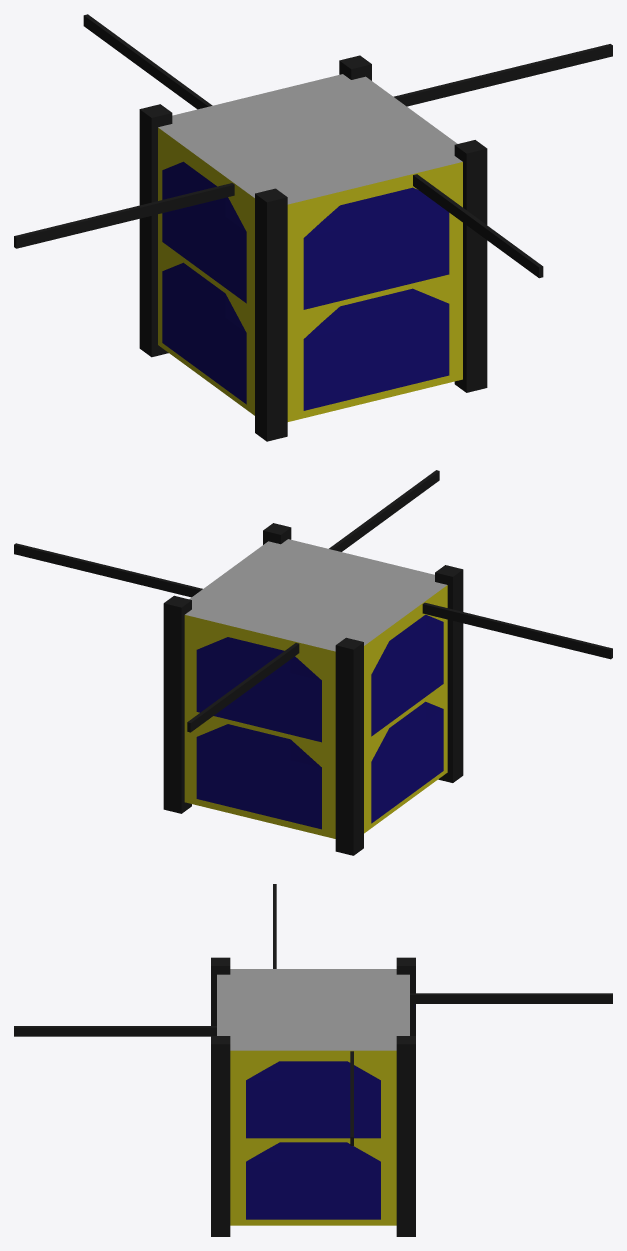
3 renders of one model, top to bottom at view 1: azimuth 30°, elevation 25°; view 2: azimuth 150°, elevation 25°; view 3: azimuth 270°, elevation 25°, orthographic. The views are drawn at different scales.
Visible parts, largest first — view 1: CubeSatWAnten.001_Cube.014, SolarPanel.006_Plane.010, SolarPanel.005_Plane.011, Leg.003_Cube.011, SolarPanel.007_Plane.009, SolarPanel.016_Plane.008, Leg.001_Cube.013, Leg.008_Cube.010, Antenna.007_Cube.015, Antenna.008_Cube.015, Antenna.003_Cube.017, Antenna.005_Cube.015 (+1 smaller); view 2: CubeSatWAnten.001_Cube.014, SolarPanel.003_Plane.013, SolarPanel.004_Plane.012, Leg.008_Cube.010, SolarPanel.016_Plane.008, SolarPanel.007_Plane.009, Leg.002_Cube.012, Leg.003_Cube.011, Antenna.007_Cube.015, Antenna.008_Cube.015, Antenna.005_Cube.015, Antenna.003_Cube.017; view 3: CubeSatWAnten.001_Cube.014, SolarPanel.002_Plane.014, SolarPanel.001_Plane.015, Leg.001_Cube.013, Leg.002_Cube.012, Antenna.005_Cube.015, Antenna.003_Cube.017, Leg.003_Cube.011, Leg.008_Cube.010.
Part boxes in pixels (x1,y1,x2,y2): CubeSatWAnten.001_Cube.014: (158,74,462,421); SolarPanel.006_Plane.010: (303,288,449,410); SolarPanel.005_Plane.011: (303,187,449,309); Leg.003_Cube.011: (255,188,287,441); SolarPanel.007_Plane.009: (162,262,246,404); SolarPanel.016_Plane.008: (162,161,246,303); Leg.001_Cube.013: (454,140,487,392); Leg.008_Cube.010: (139,104,172,357); Antenna.007_Cube.015: (14,183,234,248); Antenna.008_Cube.015: (393,44,612,106); Antenna.003_Cube.017: (413,174,543,278); Antenna.005_Cube.015: (83,14,212,109); CubeSatWAnten.001_Cube.014: (184,539,447,838); SolarPanel.003_Plane.013: (196,724,321,829); SolarPanel.004_Plane.012: (196,637,321,742); Leg.008_Cube.010: (335,637,363,855); SolarPanel.016_Plane.008: (371,614,443,736); SolarPanel.007_Plane.009: (371,701,443,823); Leg.002_Cube.012: (163,595,191,813); Leg.003_Cube.011: (435,565,463,782); Antenna.007_Cube.015: (422,602,612,659); Antenna.008_Cube.015: (14,543,202,597); Antenna.005_Cube.015: (187,643,299,732); Antenna.003_Cube.017: (329,470,439,551); CubeSatWAnten.001_Cube.014: (217,969,409,1225); SolarPanel.002_Plane.014: (246,1142,380,1219); SolarPanel.001_Plane.015: (246,1061,380,1138); Leg.001_Cube.013: (211,1036,230,1236); Leg.002_Cube.012: (396,1036,415,1236); Antenna.005_Cube.015: (410,993,612,1003); Antenna.003_Cube.017: (14,1026,216,1036); Leg.003_Cube.011: (211,957,230,1025); Leg.008_Cube.010: (396,957,415,1035).
Size of the model in its own units: 3.1 by 1.1 by 3.1.
